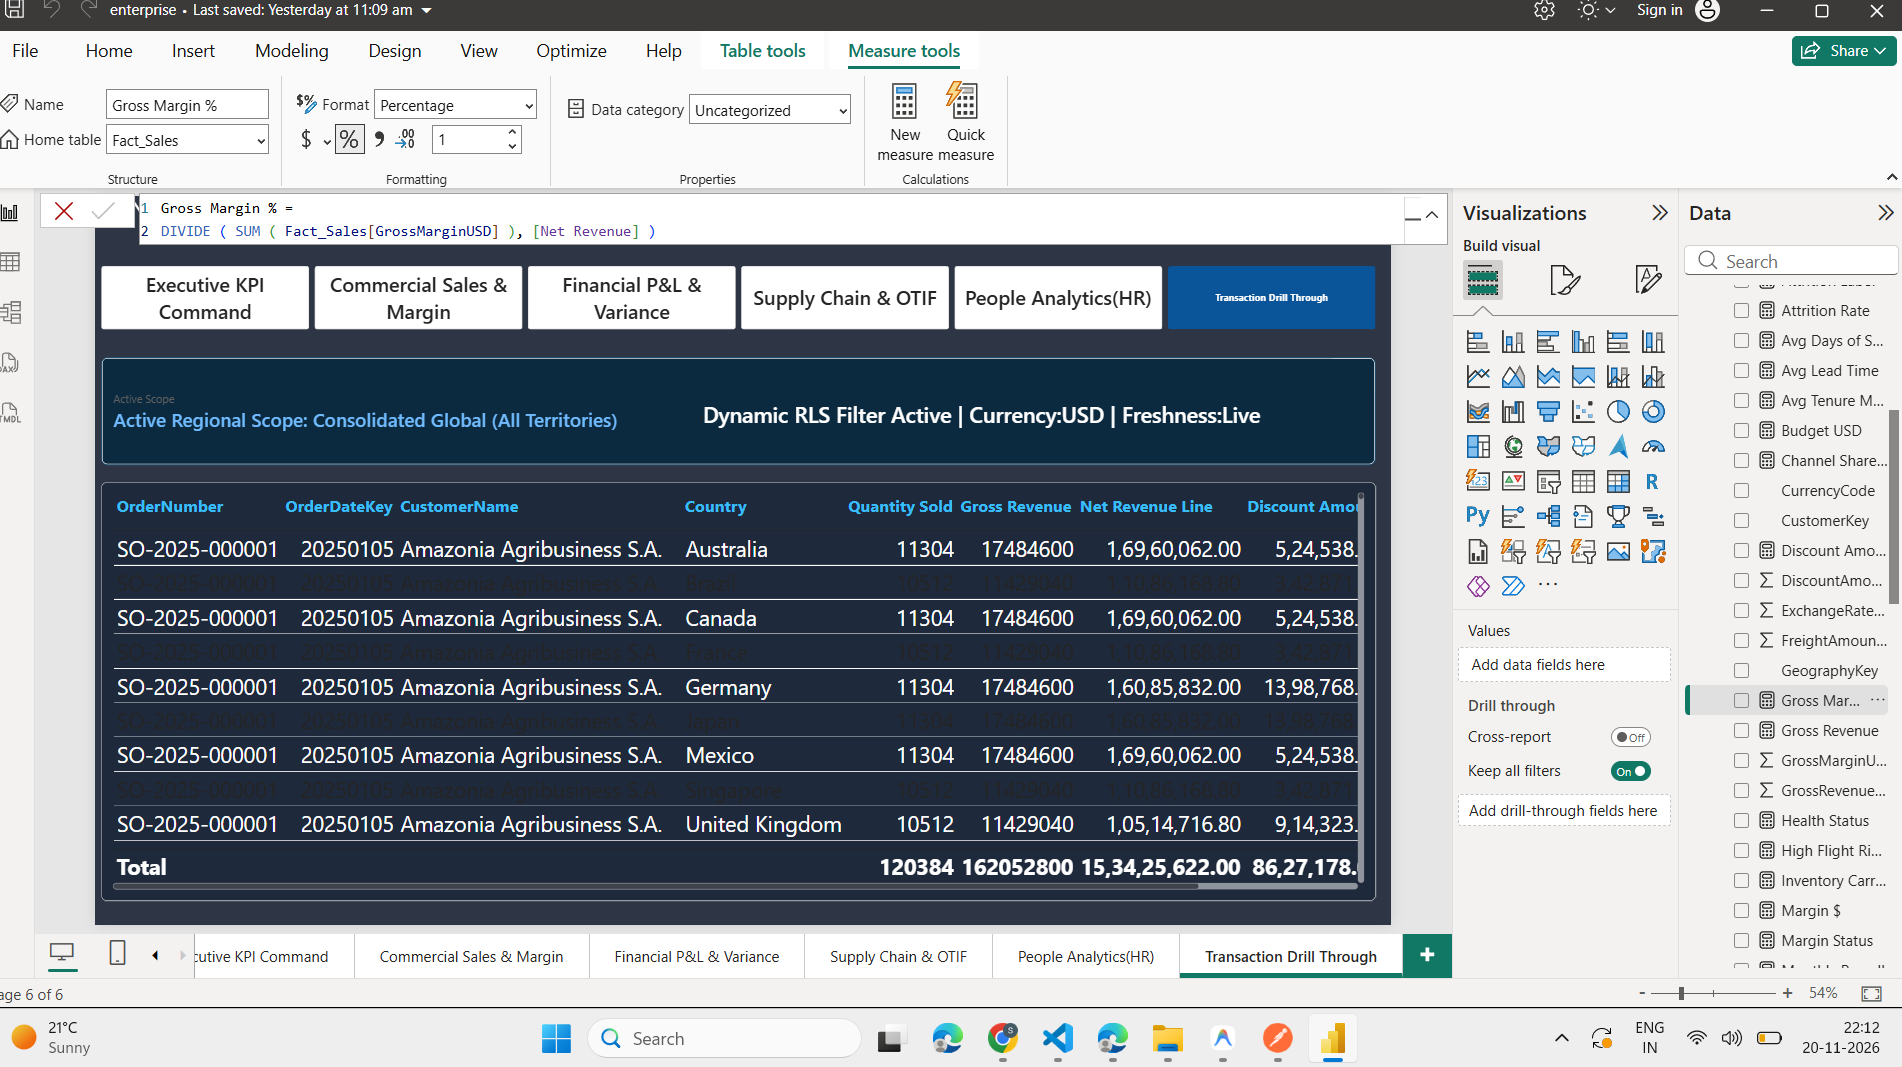

Layout of this report page (visuals, bound fields, positions):
{"tool":"powerbi","page":{"name":"Transaction Drill Through","canvas":[1920,1080],"ordinal":5},"visuals":[{"type":"textbox","box":[10,0,626,80],"z":0},{"type":"pageNavigator","box":[10,104,1888,94],"z":1000},{"type":"cardVisual","fields":{"Data":["Fact_Sales.Active Scope"]},"box":[10,238,1888,160],"z":2000},{"type":"textbox","box":[896,302,1002,54],"z":3000},{"type":"tableEx","fields":{"Values":["Fact_Sales.OrderNumber","Fact_Sales.OrderDateKey","Dim_Customer.CustomerName","Dim_Geography.Country","Fact_Sales.Quantity Sold","Fact_Sales.Gross Revenue","Fact_Sales.Net Revenue Line","Fact_Sales.Discount Amount","Fact_Sales.Margin $"]},"box":[10,424,1888,620],"z":4000}]}

Visuals, with their boxes on the page's 1920x1080 design canvas (x1, y1, x2, y2). These are canvas units, not pixel positions in the 1902x1067 screenshot, which may show the page scaled, cropped or inside an application window:
textbox: box=[10, 0, 636, 80]
pageNavigator: box=[10, 104, 1898, 198]
cardVisual - Fact_Sales.Active Scope: box=[10, 238, 1898, 398]
textbox: box=[896, 302, 1898, 356]
tableEx - Fact_Sales.OrderNumber x Fact_Sales.OrderDateKey: box=[10, 424, 1898, 1044]
